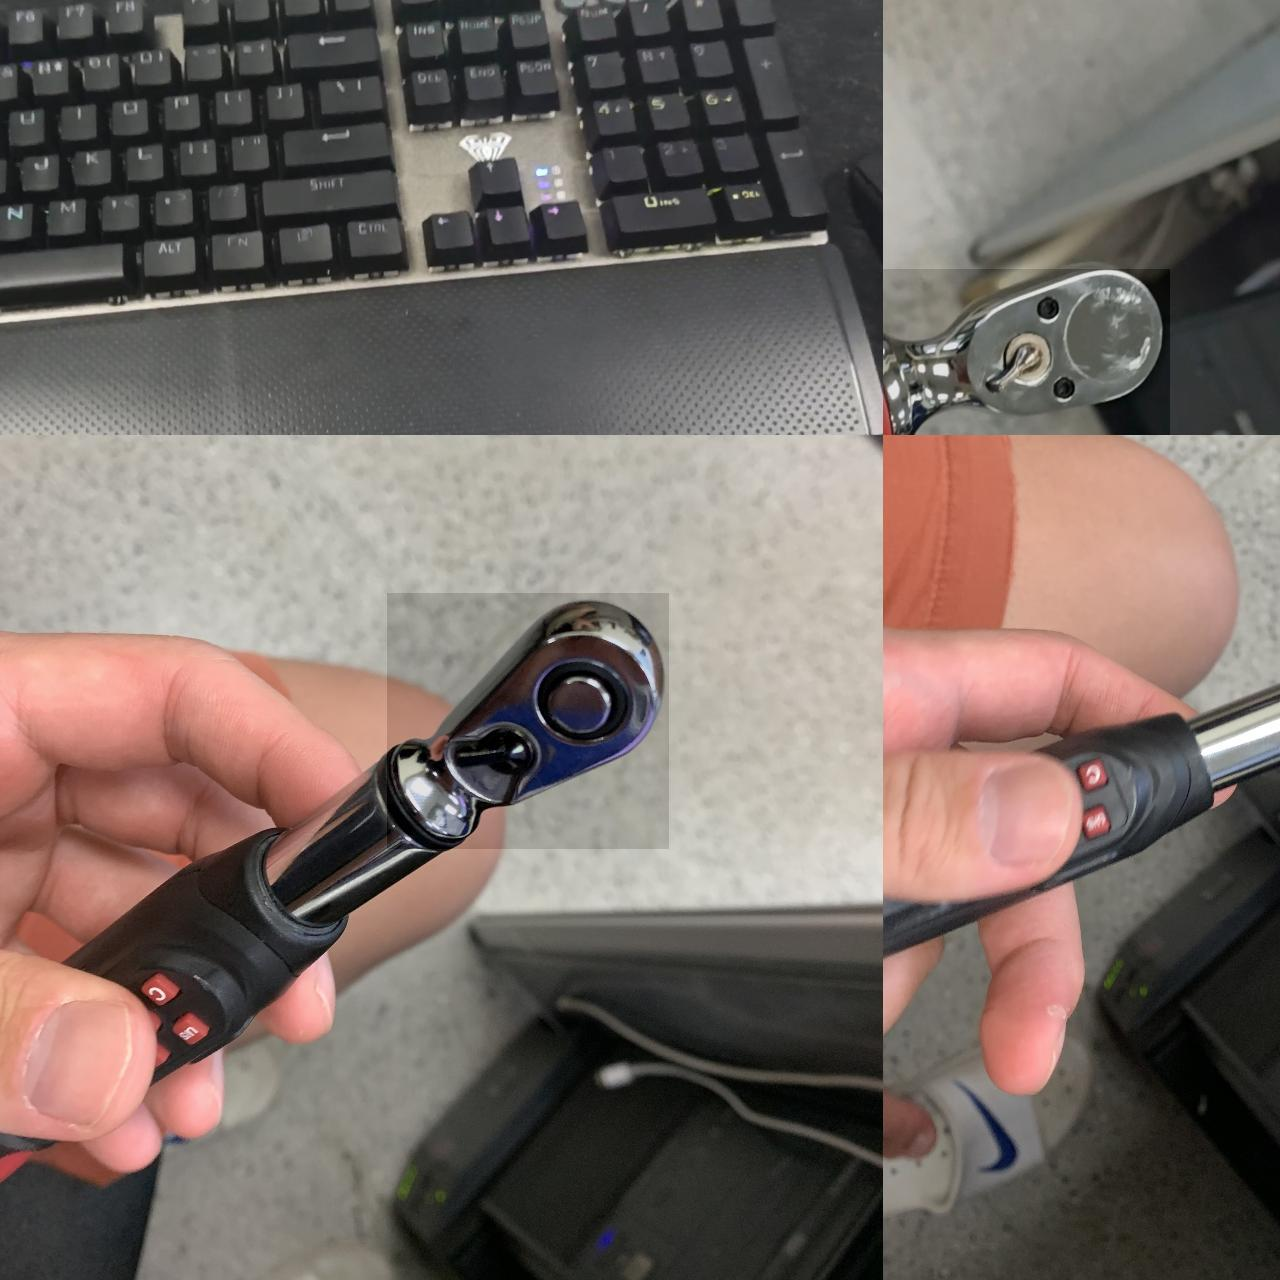Tool: (387, 593, 669, 849), (883, 269, 1170, 435)
